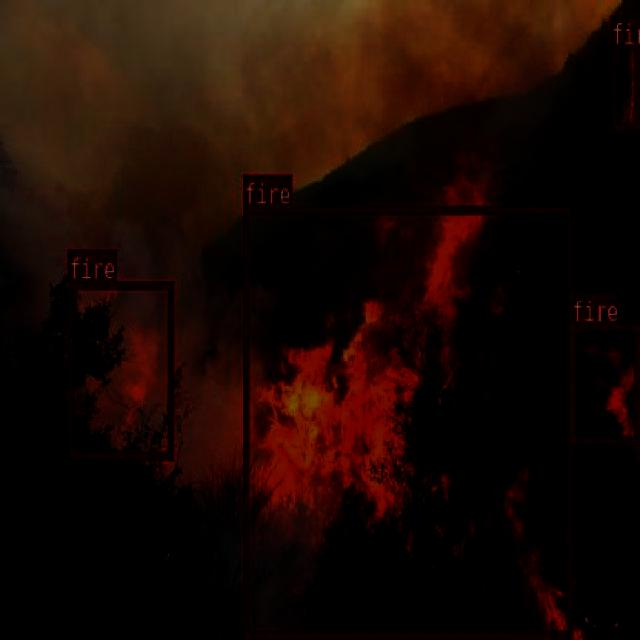fire: (243, 205, 572, 638), (66, 280, 172, 458), (570, 320, 638, 442), (610, 14, 638, 130)
